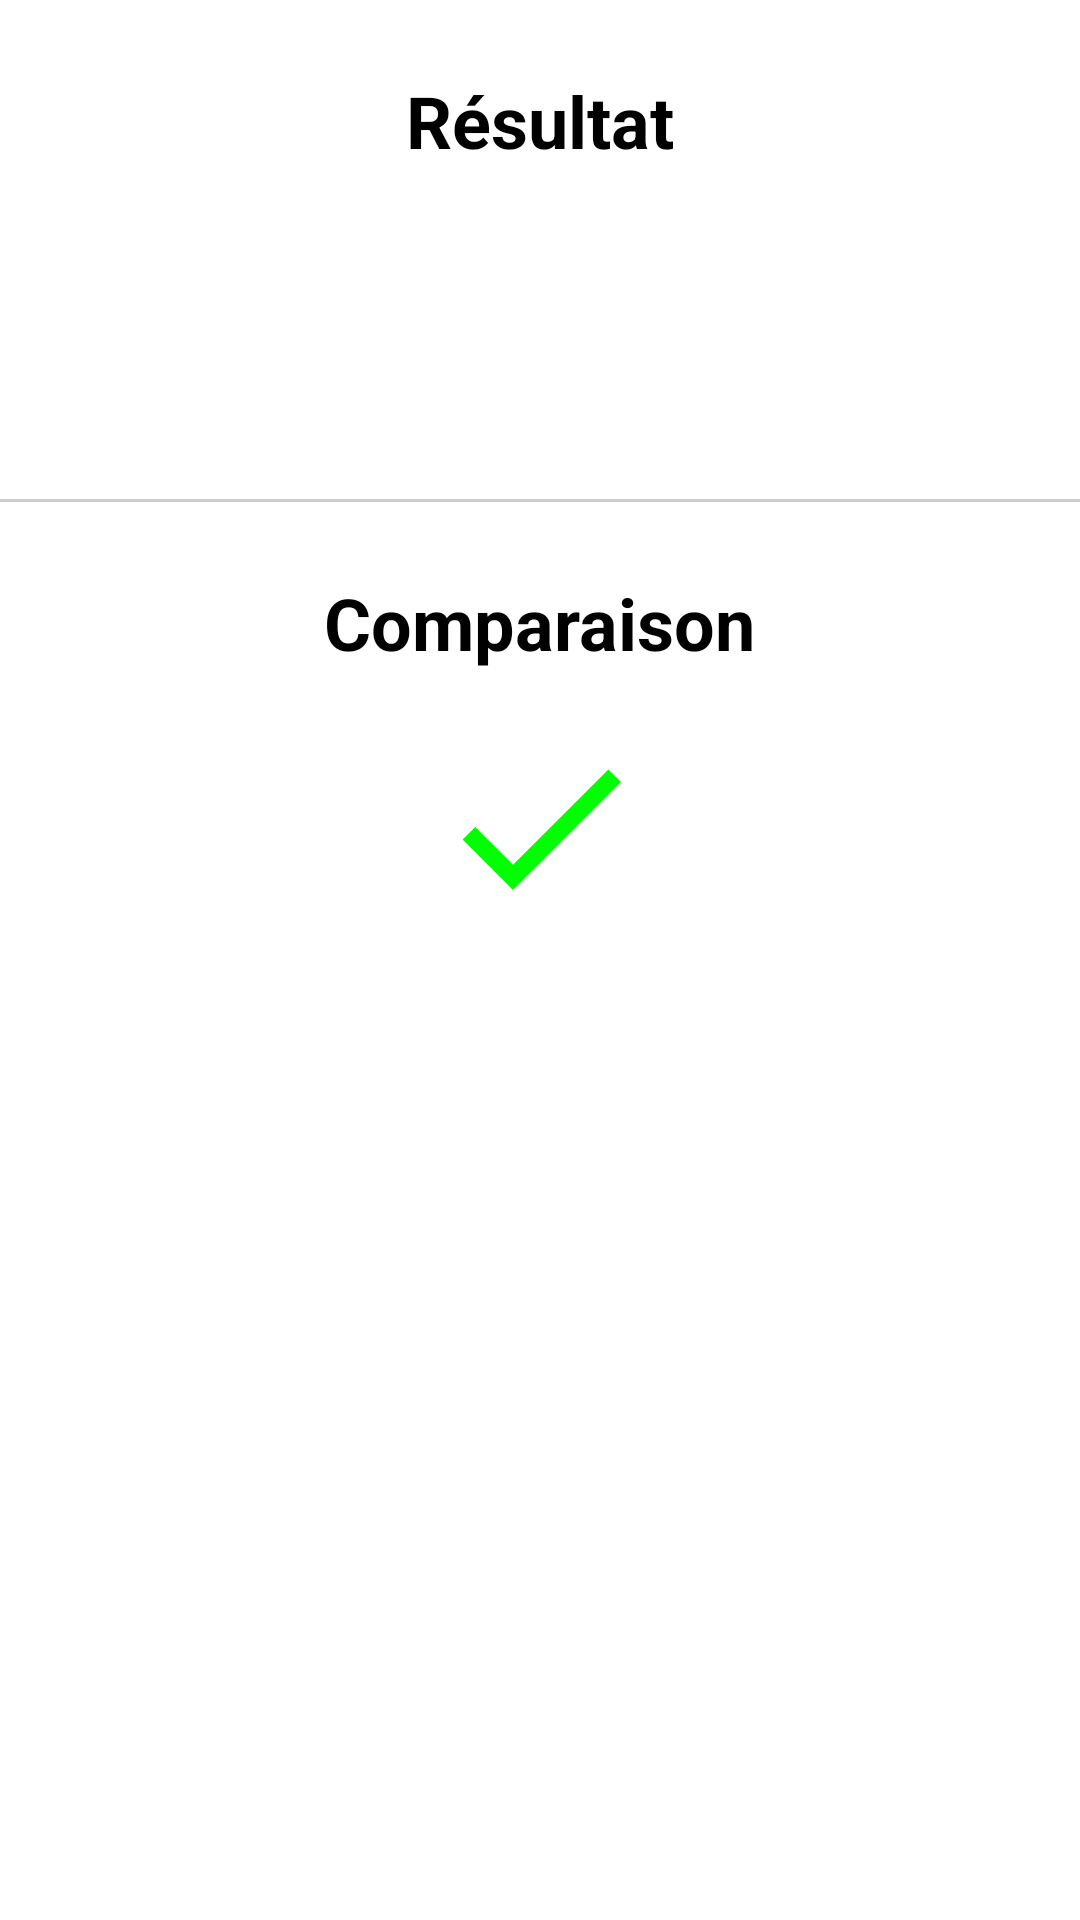

Locate icon controls on the screen. Image size 1080*1920, boxes as (x1,y1,x2,y2).
check: (462,769,621,890)
